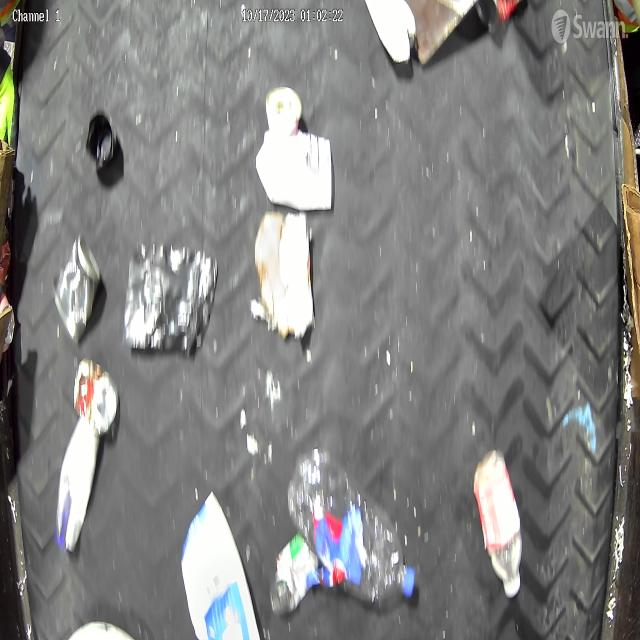can: (52, 235, 102, 344), (72, 357, 120, 433)
milk_jug: (257, 133, 336, 212)
plastic_bottle: (288, 444, 420, 601), (473, 448, 526, 600)
